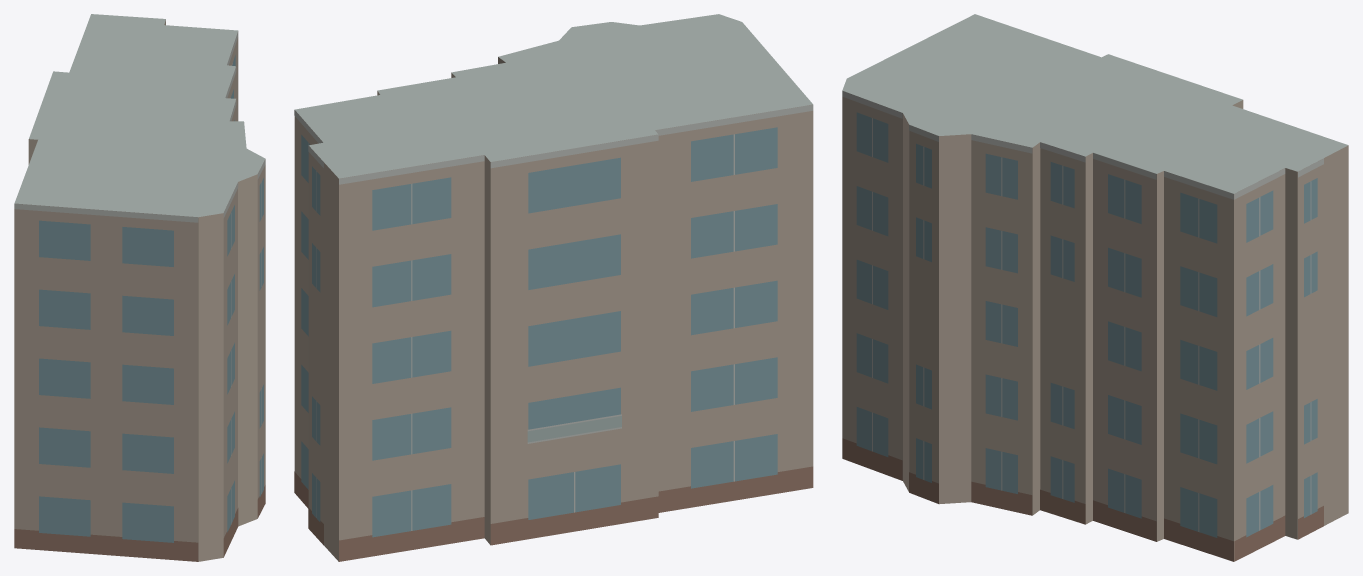
The model's file is survey-upis-32710755.glb.
3 views of the same model, side by side, from view 1: azimuth 30°, elevation 25°; view 2: azimuth 150°, elevation 25°; view 3: azimuth 270°, elevation 25° (orthographic). The views are drawn at different scales.
Parts seen in each view (by area): view 1: survey-upis-32710755.tmp; view 2: survey-upis-32710755.tmp; view 3: survey-upis-32710755.tmp.
Boxes of the visible parts, x1,y1,x2,y2 form: survey-upis-32710755.tmp: [14, 14, 265, 561]; survey-upis-32710755.tmp: [294, 14, 813, 561]; survey-upis-32710755.tmp: [842, 14, 1348, 561].
Bounding box in the file's own units: 15.73 × 15 × 18.71.
